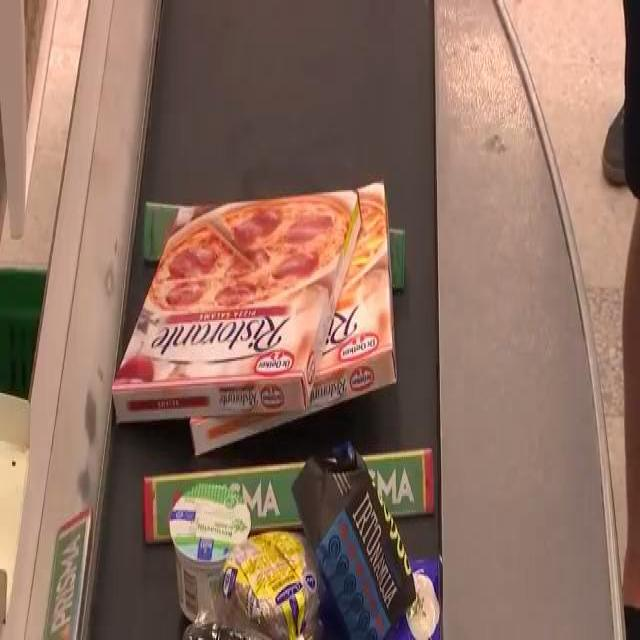food-box: (116, 188, 362, 425), (198, 173, 390, 456), (306, 450, 411, 618), (220, 530, 320, 640), (178, 486, 252, 616), (374, 546, 444, 640)
